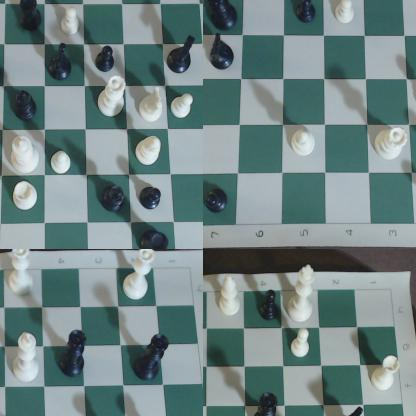black-bishop: (16, 86, 41, 128), (102, 187, 125, 215)
black-knight: (204, 36, 236, 69), (48, 44, 76, 81), (170, 37, 196, 75), (338, 405, 368, 416)
black-pawn: (204, 185, 231, 219), (95, 41, 120, 75), (261, 289, 281, 325), (140, 188, 165, 216), (296, 1, 321, 27)
black-queen: (138, 332, 173, 385), (62, 333, 90, 383), (209, 1, 242, 36), (252, 392, 284, 416)
black-rook: (138, 222, 172, 249), (18, 1, 43, 33)
white-bishop: (207, 273, 245, 323), (135, 134, 165, 168), (292, 131, 319, 158)
white-king: (9, 330, 43, 388), (286, 265, 318, 325), (5, 132, 45, 175)
white-knight: (140, 82, 166, 127)
white-pawn: (288, 330, 320, 368), (55, 9, 79, 40), (52, 149, 77, 178), (334, 1, 361, 27), (170, 94, 192, 125)
white-queen: (118, 250, 157, 307), (1, 250, 39, 297), (97, 77, 129, 121), (376, 123, 409, 164)
white-rook: (369, 357, 403, 403), (12, 181, 44, 215)
